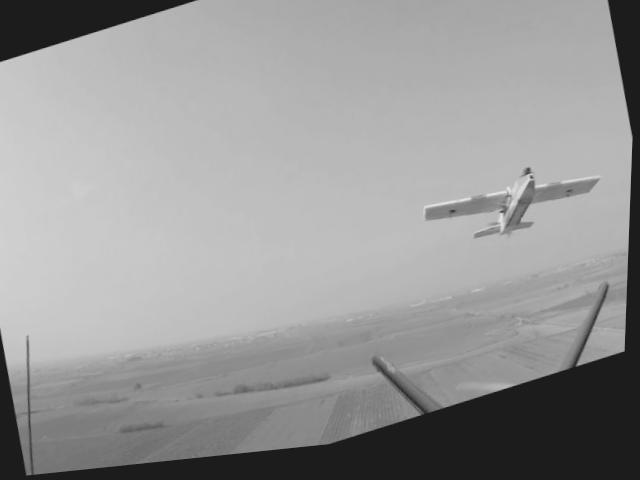hedef: (413, 144, 622, 282)
